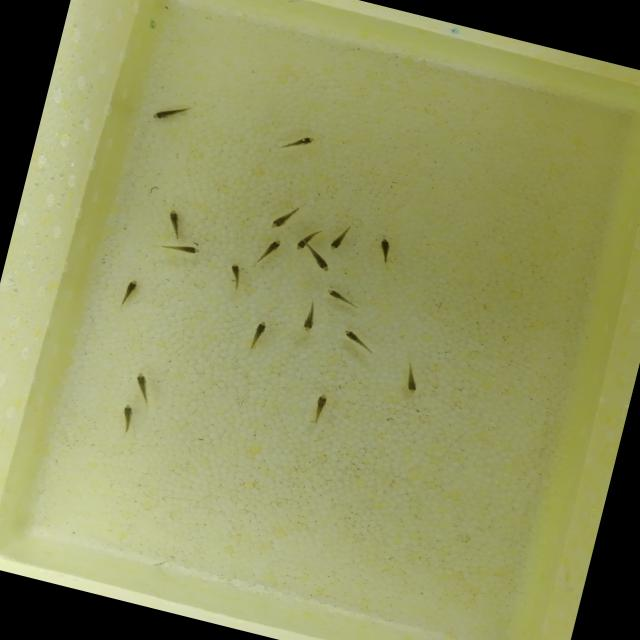fingerling: (334, 325, 380, 355), (276, 127, 318, 159), (396, 358, 429, 398), (148, 99, 193, 128), (127, 368, 161, 406), (243, 317, 272, 357), (266, 200, 300, 234), (255, 234, 286, 270), (306, 388, 332, 426), (162, 236, 204, 259), (300, 298, 324, 338), (305, 248, 337, 276), (326, 222, 352, 255), (115, 274, 141, 306), (222, 260, 246, 292), (372, 235, 396, 265), (118, 401, 139, 435), (162, 206, 185, 230), (322, 284, 349, 304), (293, 233, 310, 254)
